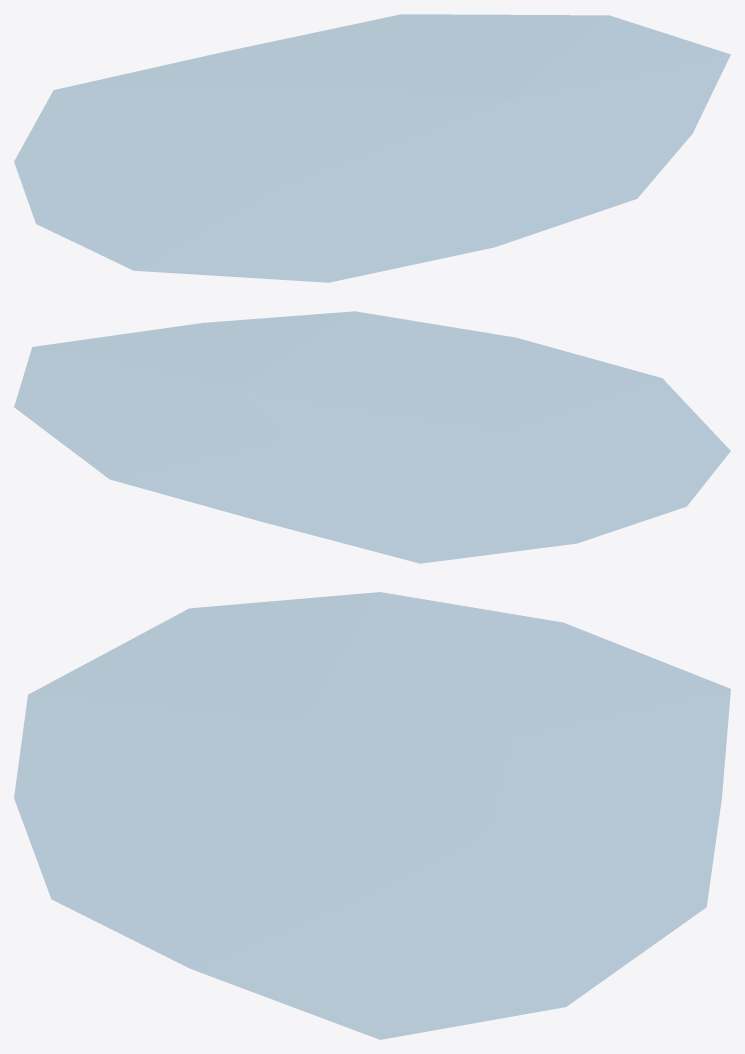
File: water.glb
3 renders of one model, top to bottom at view 1: azimuth 30°, elevation 25°; view 2: azimuth 150°, elevation 25°; view 3: azimuth 270°, elevation 25°, orthographic. The views are drawn at different scales.
Visible parts, largest first — view 1: block_puddle; view 2: block_puddle; view 3: block_puddle.
Boxes of the visible parts, box(x1,y1,x2,y2) form: block_puddle: box(14, 14, 730, 282); block_puddle: box(14, 311, 730, 563); block_puddle: box(14, 592, 730, 1039).
Bounding box in the file's own units: 0.2712 × 0.003 × 0.1834.
Materials: 1 (1 with a texture image).
